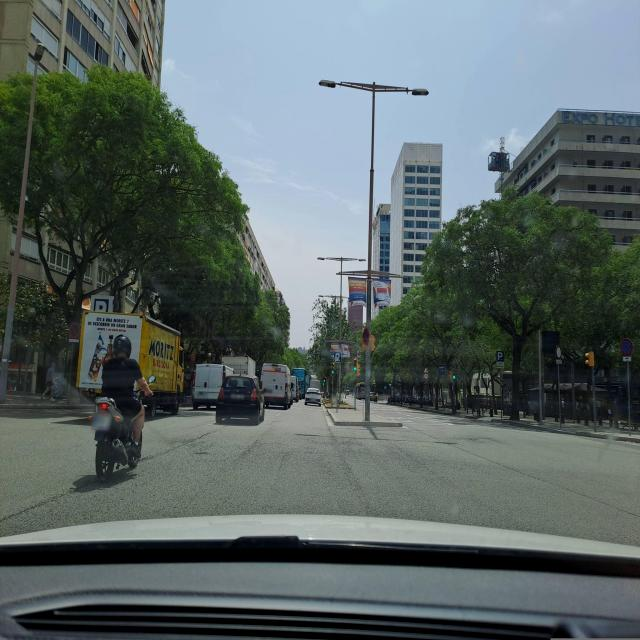bike: (89, 372, 154, 483)
car: (215, 374, 265, 426), (192, 363, 230, 410), (304, 388, 322, 407), (289, 378, 300, 402), (367, 391, 378, 402)
